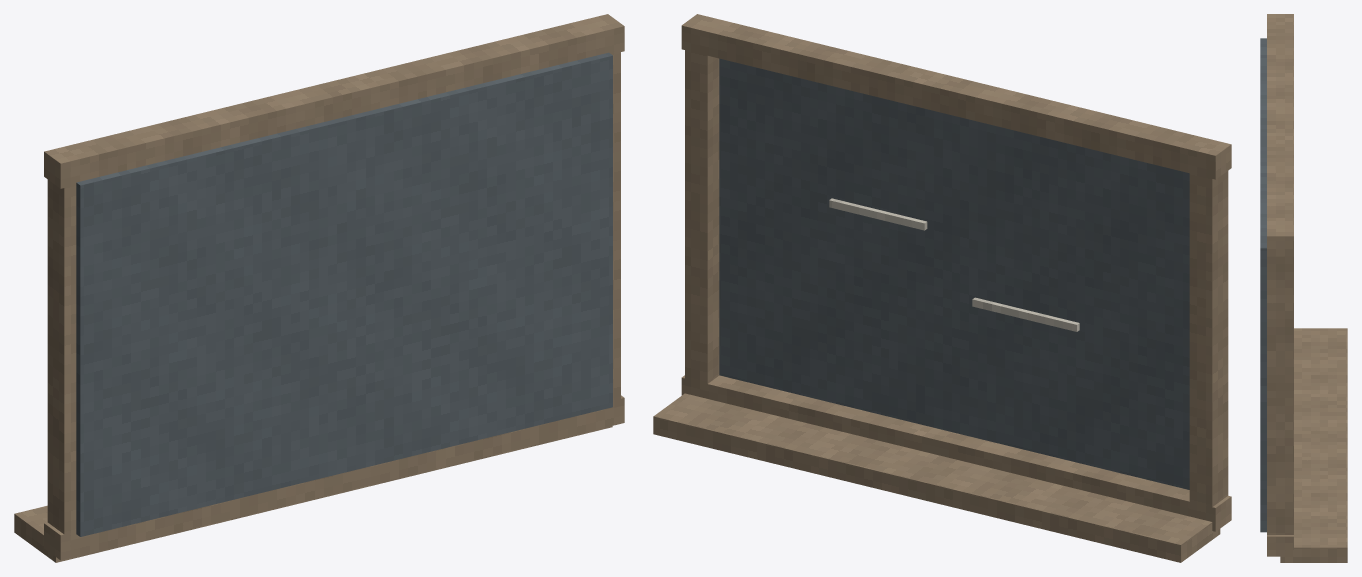
Rendered from level_blockout_school_chalkboard.glb.
3 renders of one model, left to right at view 1: azimuth 30°, elevation 25°; view 2: azimuth 150°, elevation 25°; view 3: azimuth 270°, elevation 25°, orthographic. The views are drawn at different scales.
Visible parts, largest first — view 1: level_blockout_school_chalkboard; view 2: level_blockout_school_chalkboard; view 3: level_blockout_school_chalkboard.
Part boxes in pixels (x1=…): level_blockout_school_chalkboard: x1=14, y1=14, x2=624, y2=562; level_blockout_school_chalkboard: x1=653, y1=14, x2=1231, y2=562; level_blockout_school_chalkboard: x1=1260, y1=14, x2=1347, y2=562.
Size of the model in its own units: 2.35 by 1.62 by 0.39.
3 materials, 3 textured.
